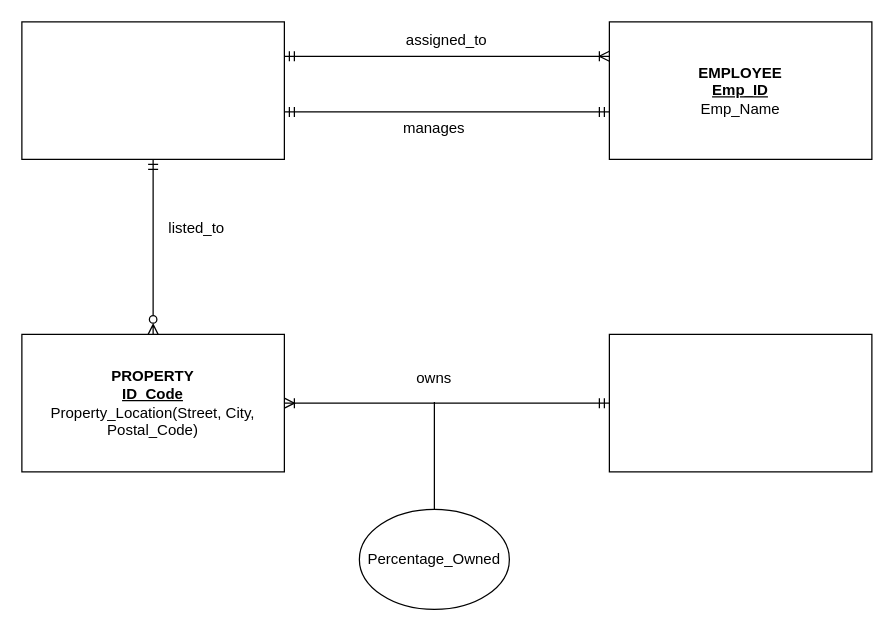
Some shapes in this 894 by 631 pixel diagram are drawn without their labels. Here are the shapes that lost their labels. From the top down, the box of each, then its label:
(21, 21, 284, 159): SALES OFFICE Office_No Office_Location(Address, State)
(608, 333, 872, 472): OWNER Owner_ID Owner_Name
